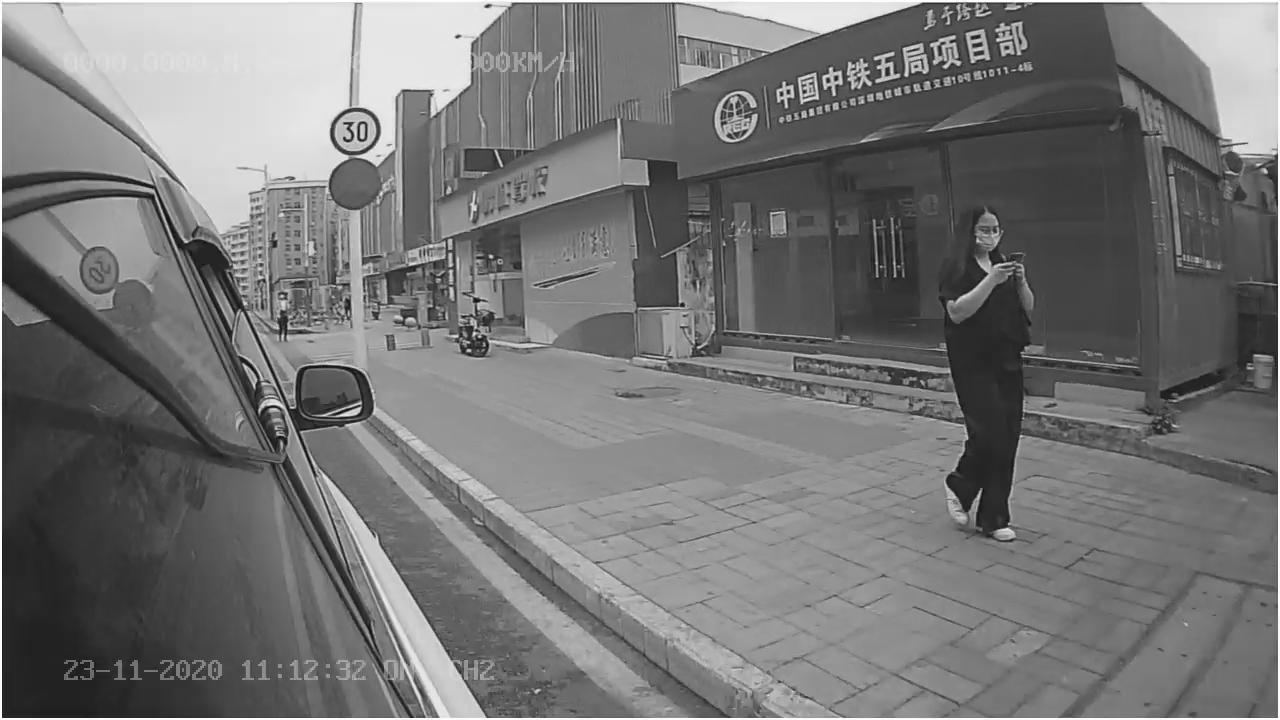person: (925, 199, 1048, 548)
